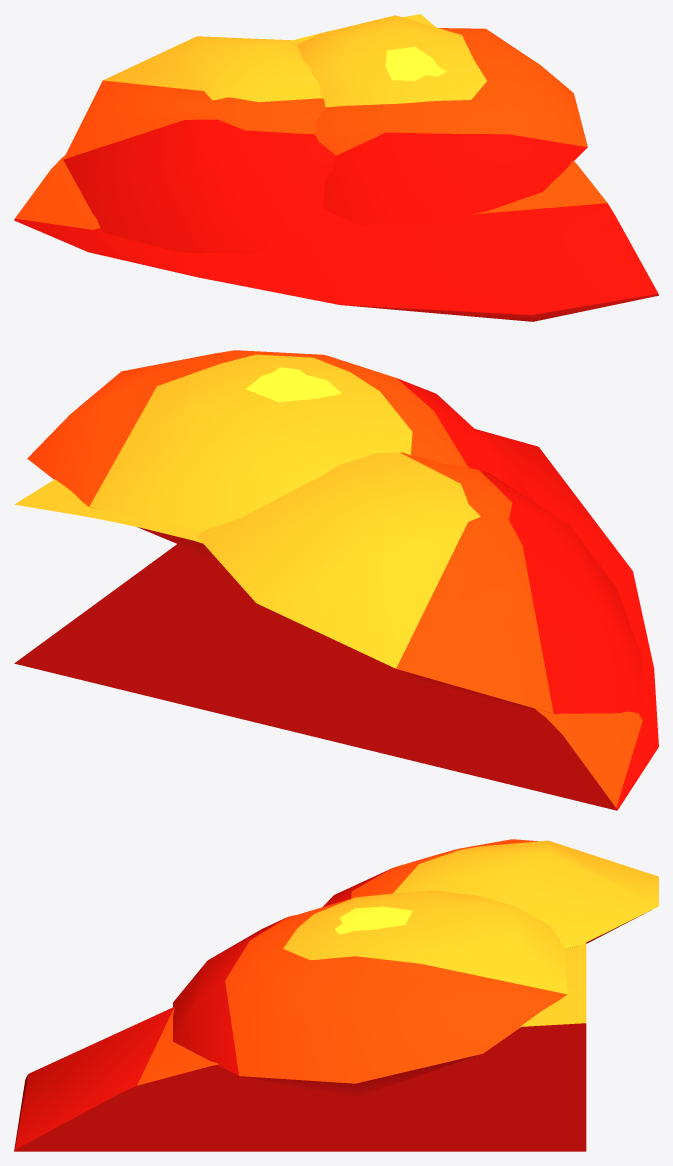
Rendered from shot_zflame_210.glb.
The picture shows the model from 3 angles, top to bottom: view 1: azimuth 30°, elevation 25°; view 2: azimuth 150°, elevation 25°; view 3: azimuth 270°, elevation 25°; orthographic projection. The views are drawn at different scales.
Parts seen in each view (by area): view 1: zflame_0_billow4_b210, zflame_0_bed_b210, zflame_0_billow3_b210; view 2: zflame_0_billow4_b210, zflame_0_bed_b210, zflame_0_billow3_b210; view 3: zflame_0_billow3_b210, zflame_0_bed_b210, zflame_0_billow4_b210.
Part boxes in pixels (left/top/right/bottom): zflame_0_billow4_b210: left=63, top=36, right=335, bottom=253; zflame_0_bed_b210: left=14, top=14, right=658, bottom=321; zflame_0_billow3_b210: left=297, top=15, right=587, bottom=225; zflame_0_billow4_b210: left=198, top=452, right=643, bottom=713; zflame_0_bed_b210: left=14, top=429, right=658, bottom=810; zflame_0_billow3_b210: left=27, top=350, right=535, bottom=560; zflame_0_billow3_b210: left=173, top=890, right=567, bottom=1097; zflame_0_bed_b210: left=14, top=943, right=586, bottom=1151; zflame_0_billow4_b210: left=323, top=839, right=658, bottom=948.
Size of the model in its own units: 12.53 by 3.86 by 12.57.
